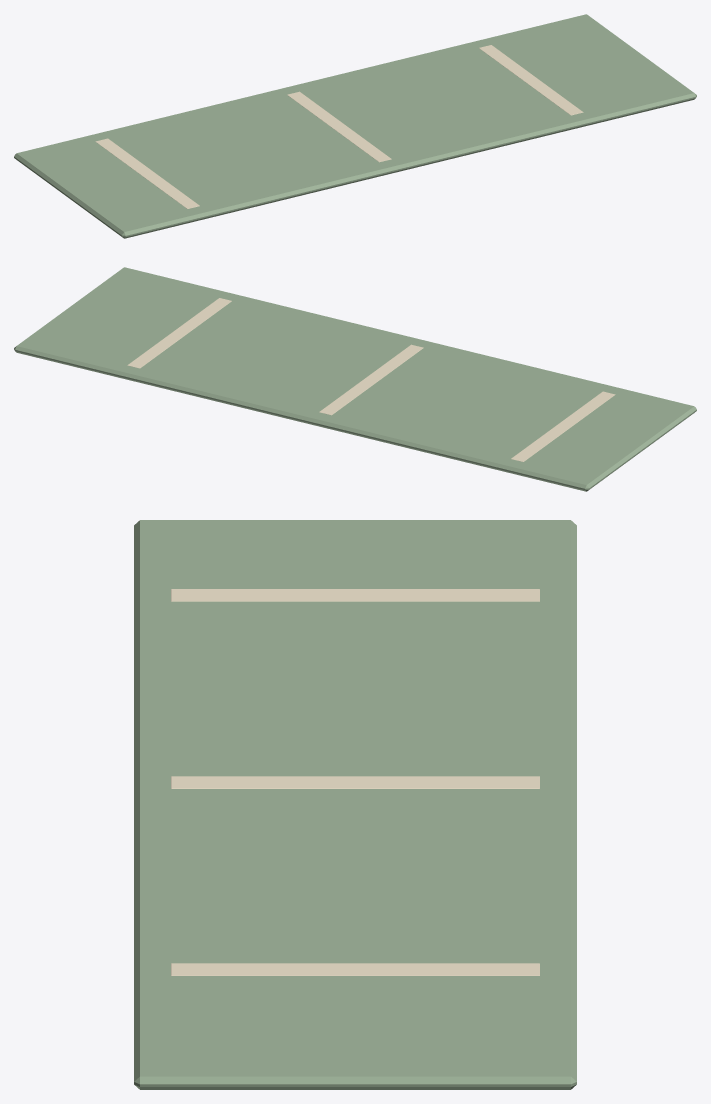
File: exercise_mat.glb
3 renders of one model, top to bottom at view 1: azimuth 30°, elevation 25°; view 2: azimuth 150°, elevation 25°; view 3: azimuth 270°, elevation 25°, orthographic. The views are drawn at different scales.
Parts seen in each view (by area): view 1: FURN-exercise_mat; view 2: FURN-exercise_mat; view 3: FURN-exercise_mat.
Part boxes in pixels (x1,y1,x2,y2): FURN-exercise_mat: (14, 14, 696, 238); FURN-exercise_mat: (14, 267, 696, 491); FURN-exercise_mat: (134, 520, 576, 1089).
Size of the model in its own units: 1.8 by 0.0205 by 0.6.
